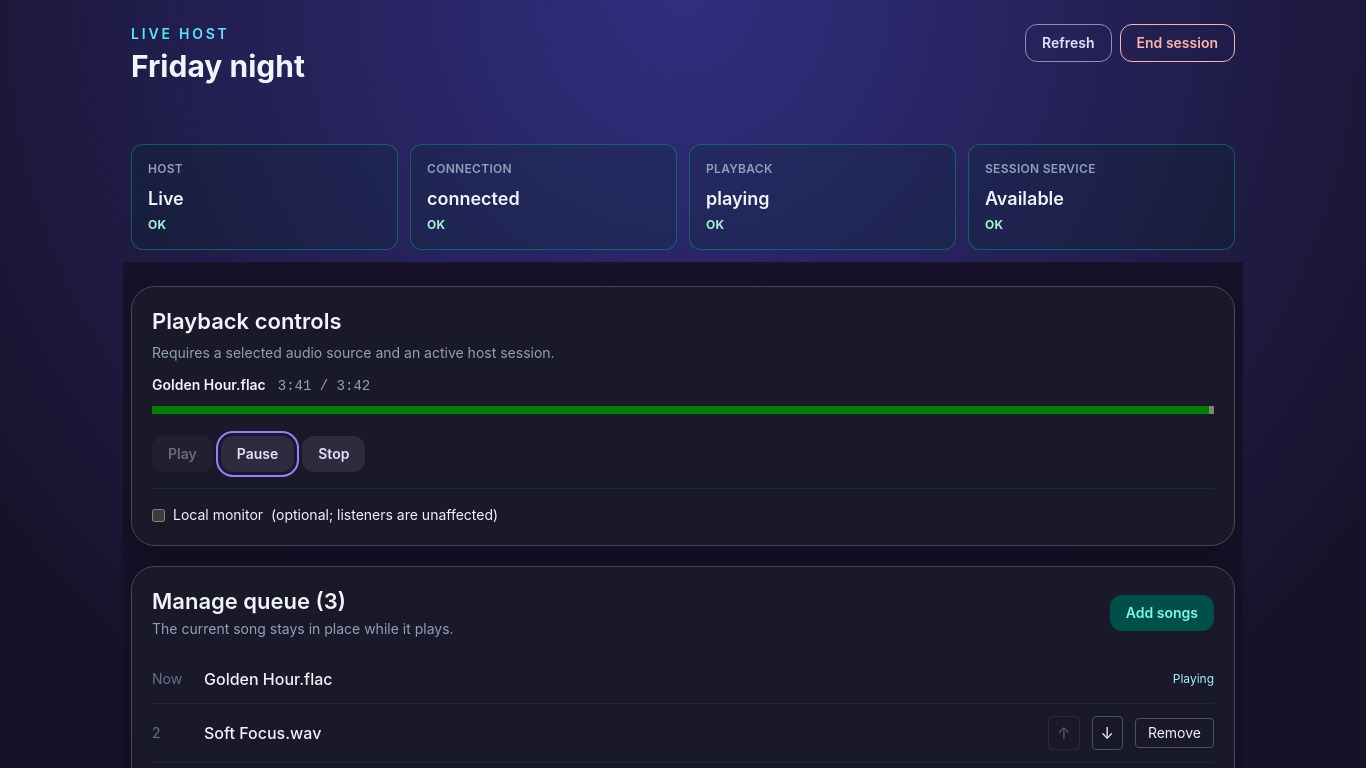
it: live dashboard track boundaries › updates the current and next track at a boundary without remounting or moving focus
Check: the message named "Now playing" reads "Golden Hour.flac", box [152, 376, 266, 393]
Click the button "Refresh" at x=1068, y=43, box [1025, 24, 1112, 62]
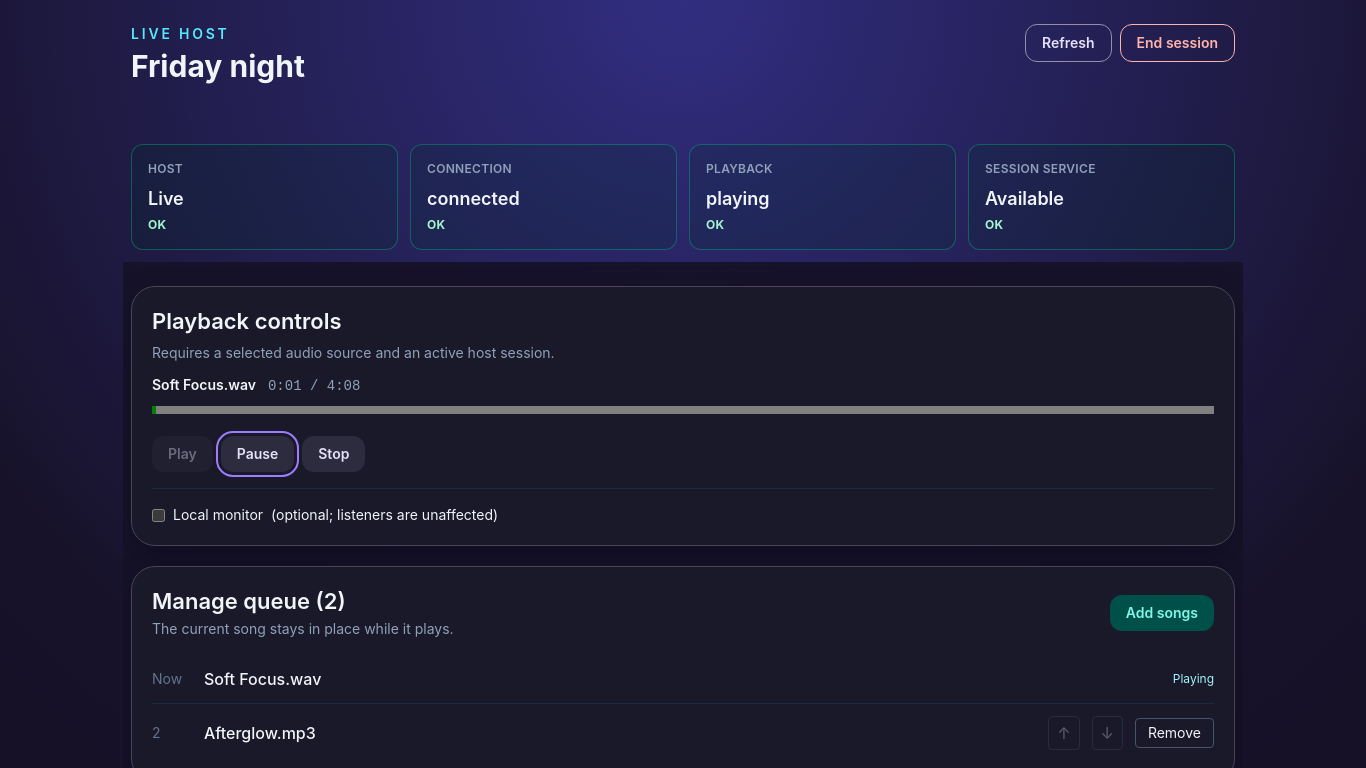
Check: the message named "Now playing" reads "Soft Focus.wav", box [152, 376, 256, 393]
Check: the text "0:01 / 4:08" is shown, box [268, 376, 360, 396]
Check: the heading "Manage queue (2)" is shown, box [152, 588, 346, 614]
